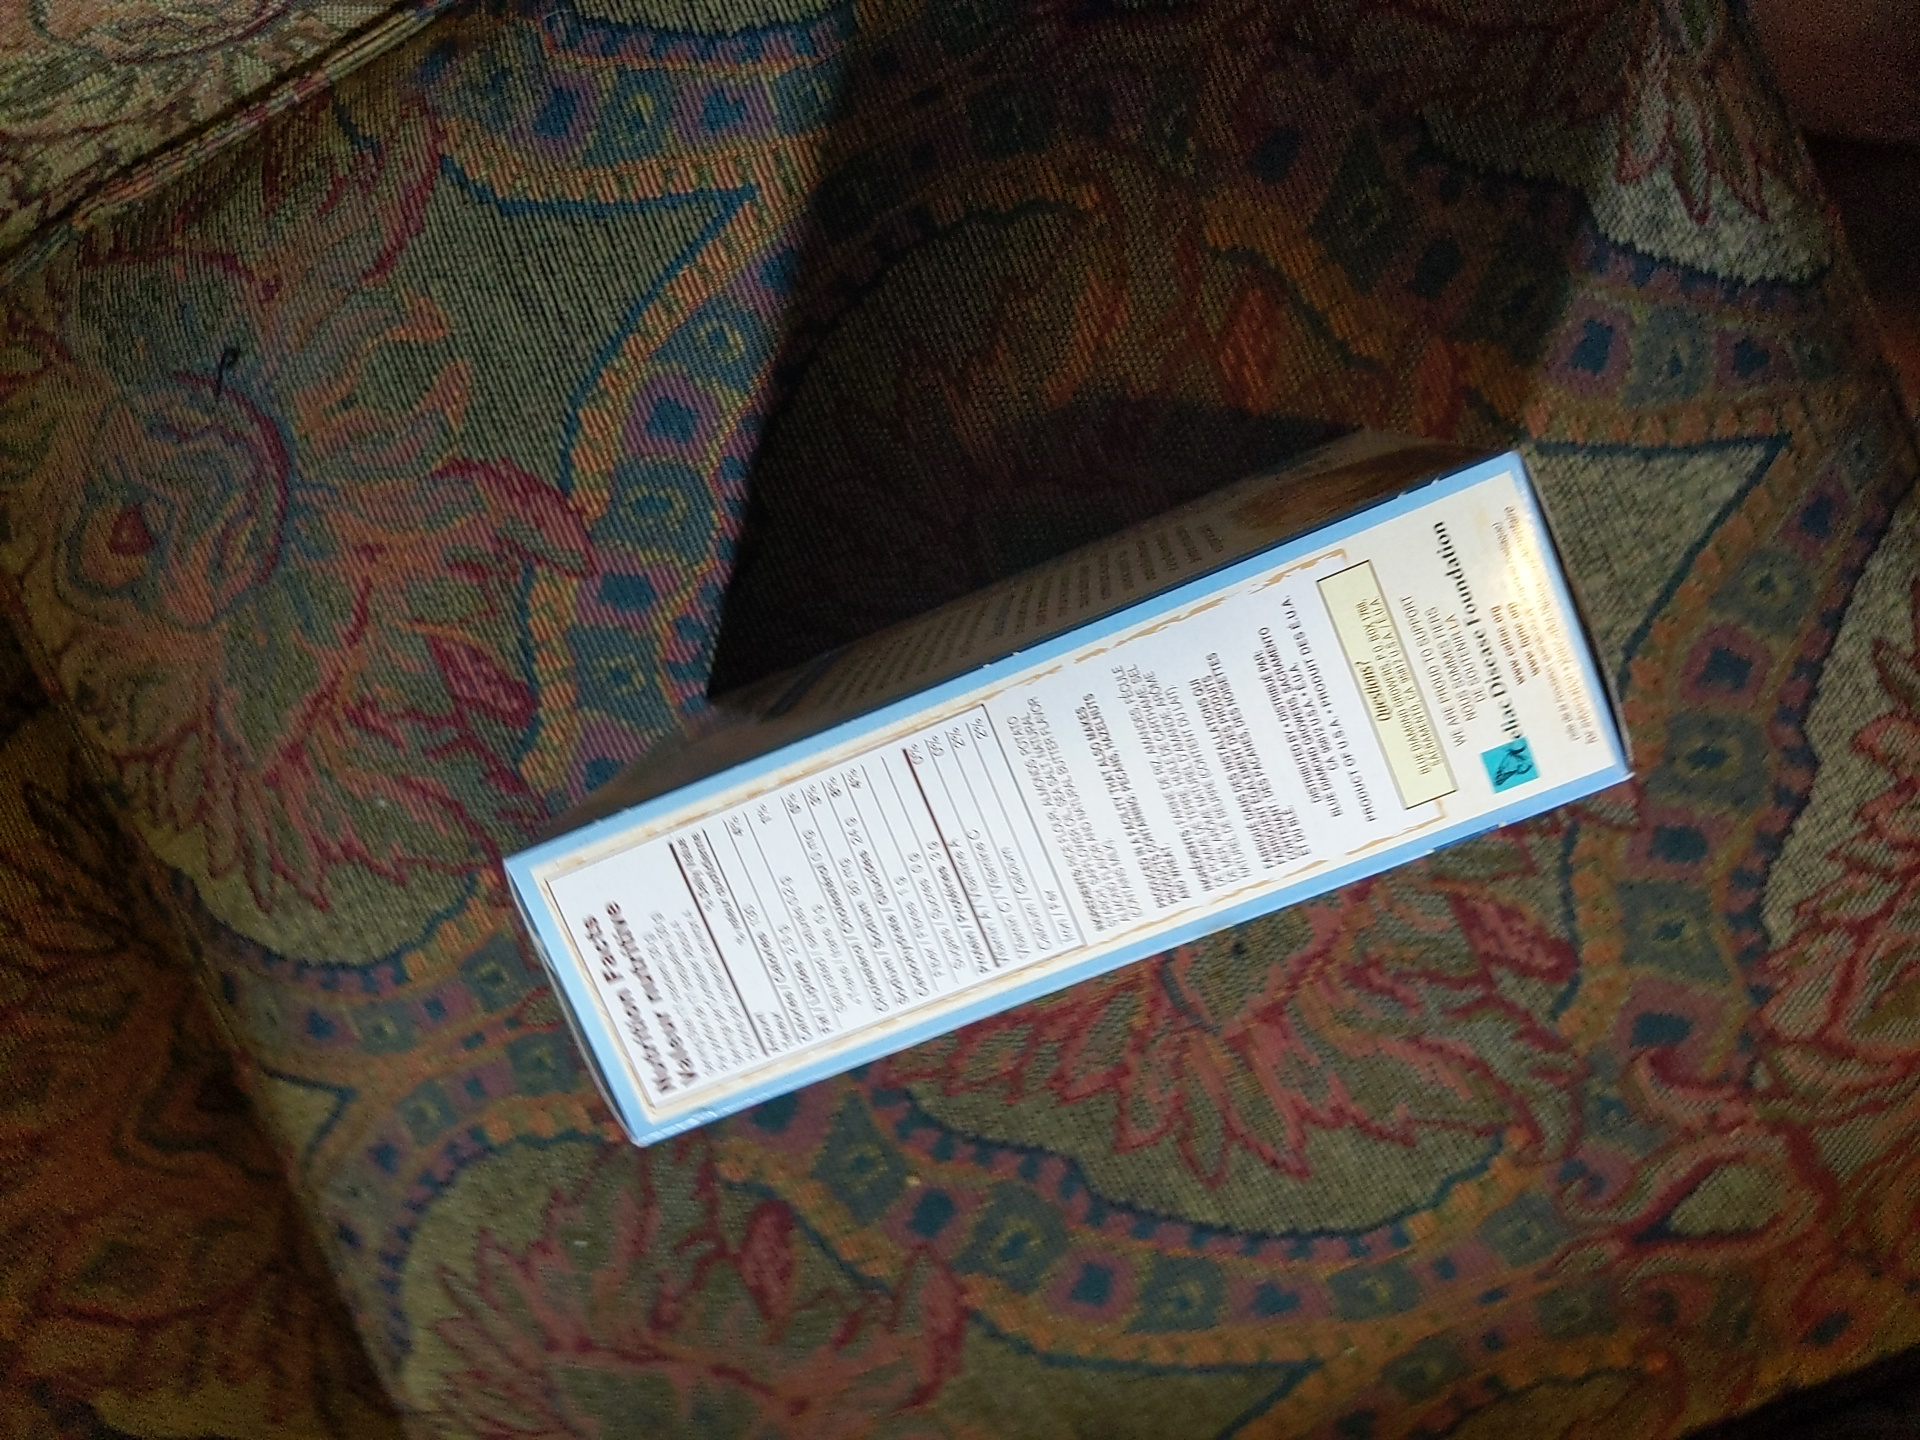blue_diamond_nut_thins_almond_seasalt: (590, 504, 1580, 1097)
